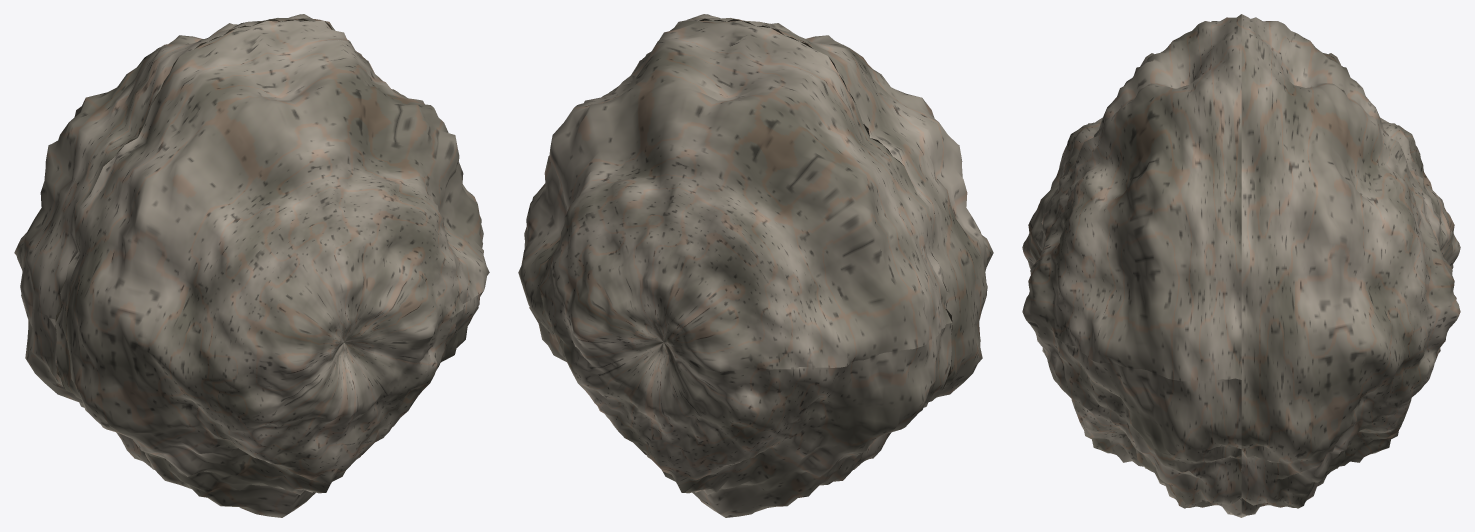
The model's file is clear-prism-study-v2.glb.
The picture shows the model from 3 angles, left to right: view 1: azimuth 30°, elevation 25°; view 2: azimuth 150°, elevation 25°; view 3: azimuth 270°, elevation 25°; orthographic projection.
Visible parts, largest first — view 1: Closed_front, Closed_back; view 2: Closed_back, Closed_front; view 3: Closed_front, Closed_back.
Boxes of the visible parts, x1,y1,x2,y2 form: Closed_front: (55,20,489,517); Closed_back: (14,14,383,469); Closed_back: (518,20,952,517); Closed_front: (613,14,993,469); Closed_front: (1022,14,1241,517); Closed_back: (1241,14,1460,517).
Bounding box in the file's own units: 3.02 × 3.48 × 2.86.
8 materials, 3 textured.
